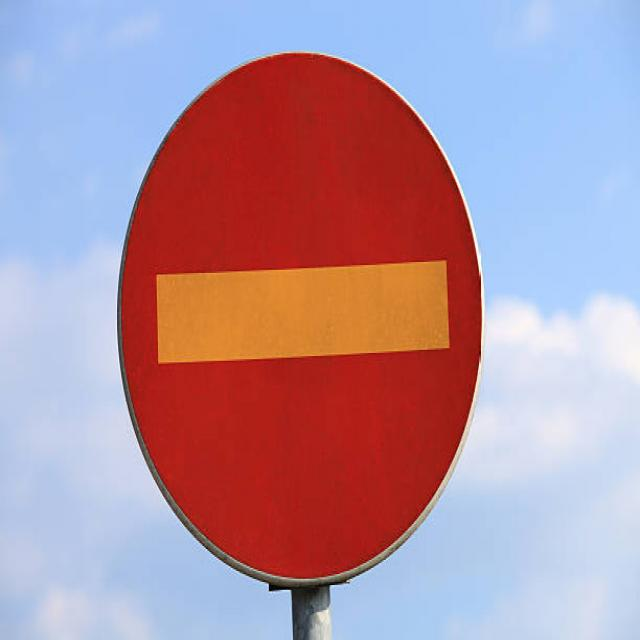do_not_enter: (114, 50, 496, 592)
